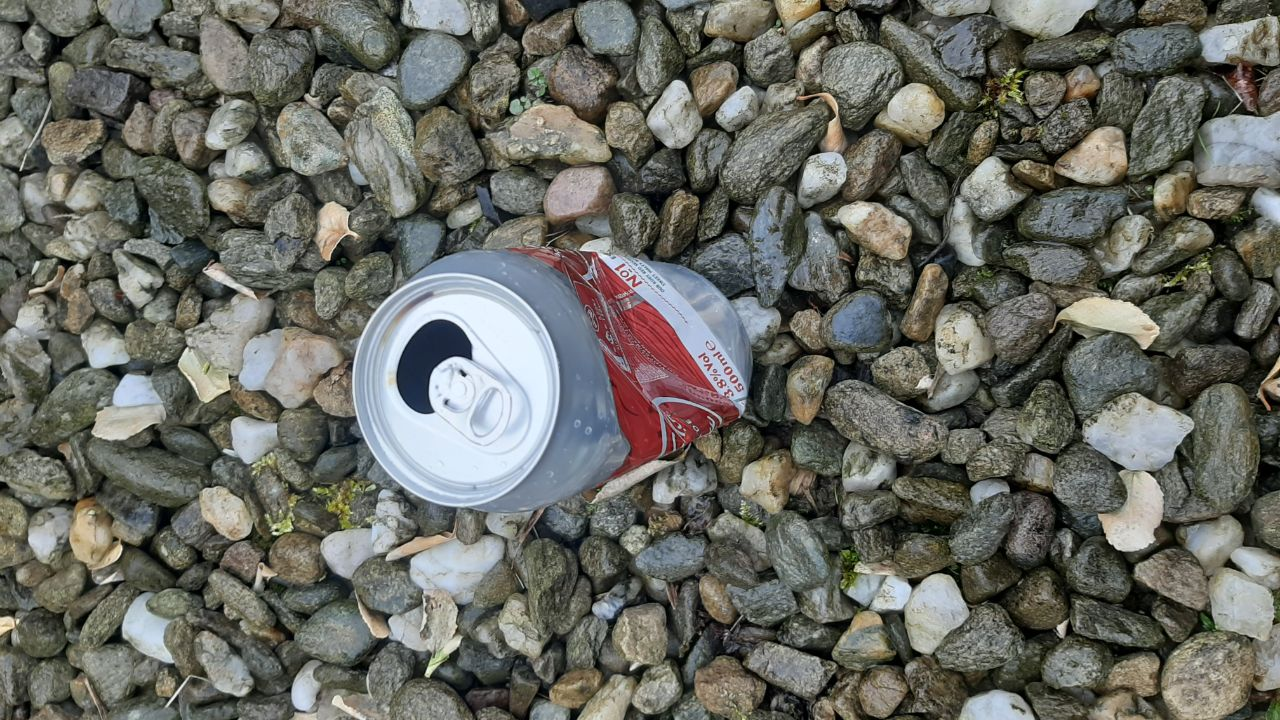Can: (349, 244, 747, 514)
